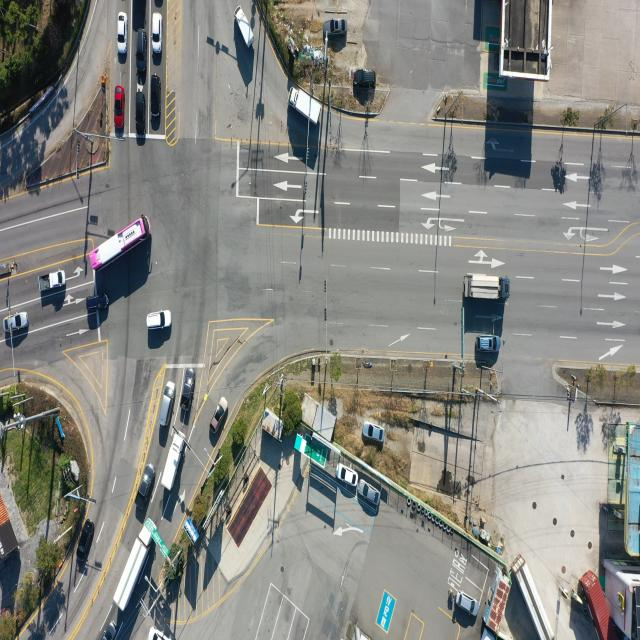car: (183, 368, 199, 426), (76, 520, 95, 564), (160, 381, 177, 428), (208, 398, 230, 433), (137, 464, 156, 503), (116, 85, 128, 133), (456, 592, 478, 618), (2, 312, 28, 333), (87, 290, 111, 312), (146, 310, 171, 331), (322, 17, 348, 37), (337, 463, 359, 486), (150, 74, 160, 122), (359, 483, 379, 506), (362, 422, 384, 442), (116, 12, 126, 54), (136, 92, 146, 134), (136, 32, 146, 73), (151, 13, 161, 52), (355, 68, 376, 86), (105, 616, 120, 640), (478, 337, 500, 353), (149, 628, 167, 640), (153, 0, 163, 8)
large_bus: (88, 217, 148, 276)
medium_truck: (116, 522, 156, 613), (518, 555, 557, 638), (159, 431, 185, 494), (288, 87, 322, 127), (465, 274, 511, 301)
small_truck: (234, 5, 254, 46), (40, 269, 66, 293)
